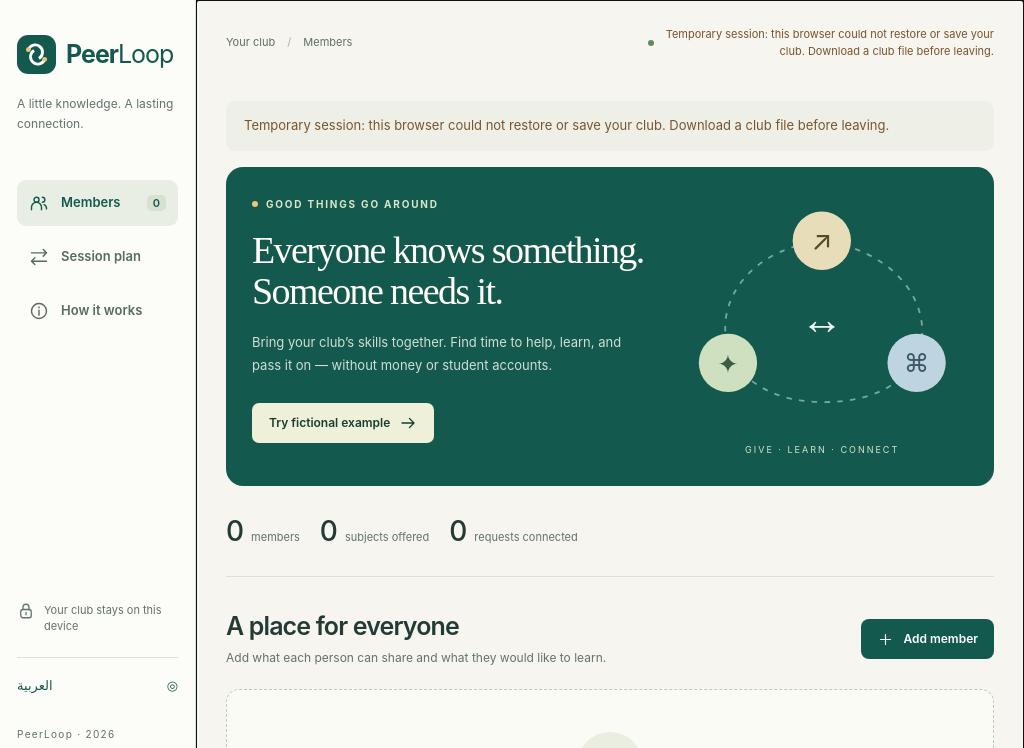
Scenario: storage and import recovery › allows an explicit replacement after a read failure and saves that replacement
Click the button "Try fictional example". click: [343, 423]
box: [252, 403, 434, 443]
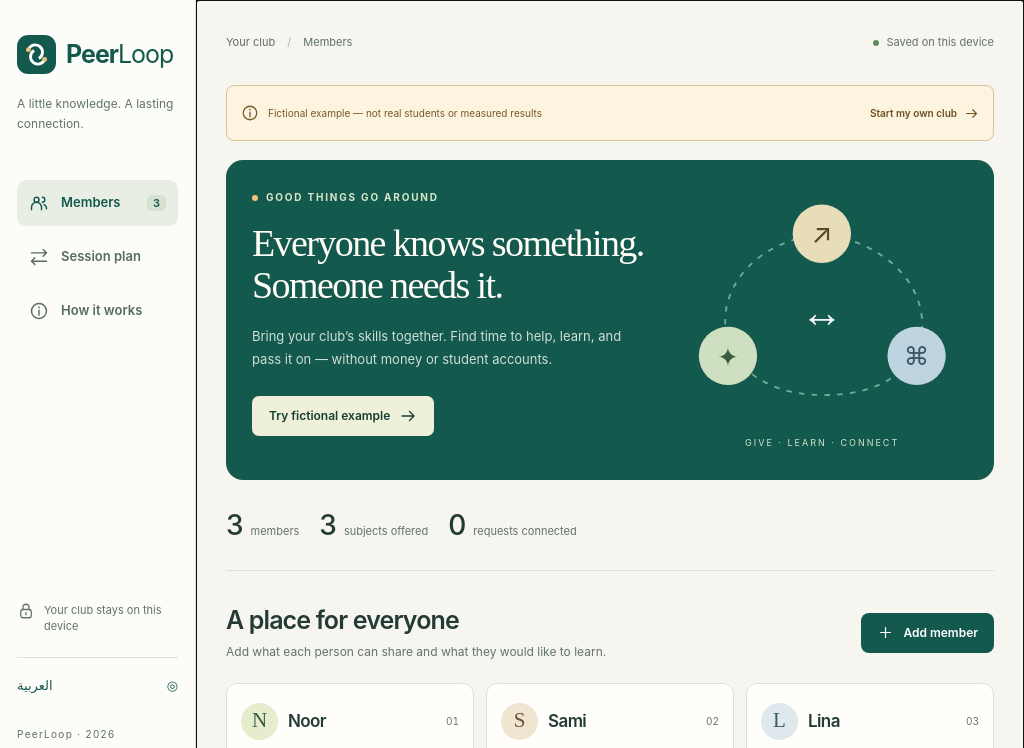
Check: the text "Fictional example — not real students or measured results" is shown, box [268, 106, 542, 120]
Check: the text "Temporary session:" is gone
